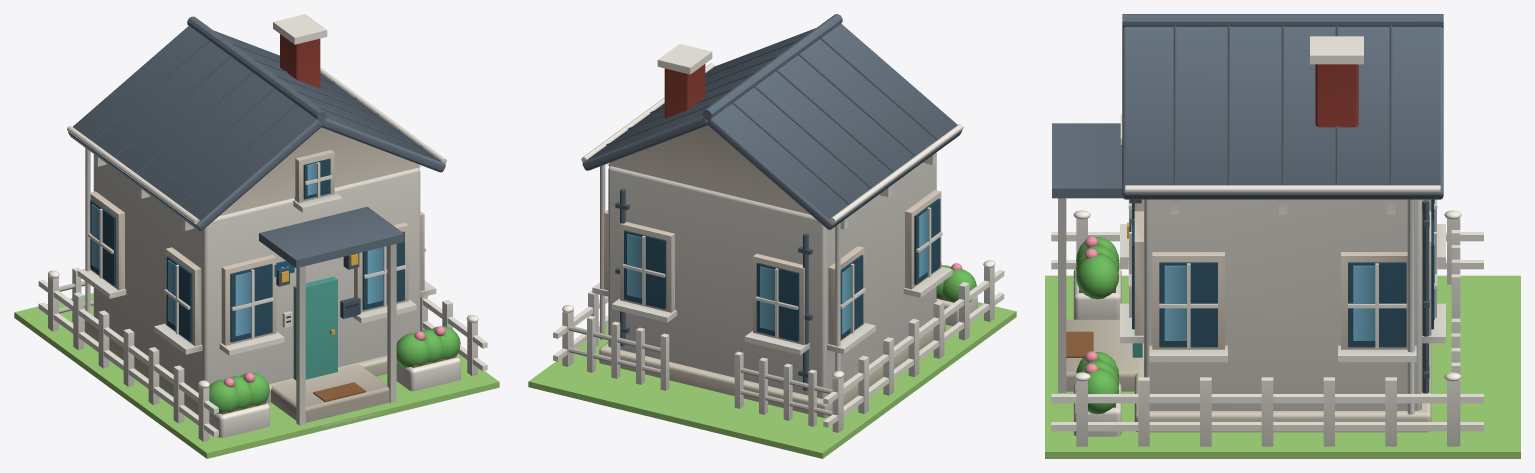
The model's file is house-cream.glb.
3 views of the same model, side by side, from view 1: azimuth 30°, elevation 25°; view 2: azimuth 150°, elevation 25°; view 3: azimuth 270°, elevation 25° (orthographic). The views are drawn at different scales.
Visible parts, largest first — view 1: house walls, pitched roof, gable walls, garden lot, blue glazing, house base, front door, plant, sky reflection, chimney, rainwater pipe, porch mat; view 2: house walls, pitched roof, garden lot, gable walls, blue glazing, house base, sky reflection, chimney, rainwater pipe, plant; view 3: house walls, pitched roof, garden lot, blue glazing, house base, gable walls, plant, sky reflection, chimney, rainwater pipe, porch mat, flower.
Boxes of the visible parts, x1,y1,x2,y2 form: house walls: (38,14,487,441); pitched roof: (68,16,445,268); gable walls: (90,127,424,345); garden lot: (14,293,499,458); blue glazing: (90,158,404,342); house base: (84,315,389,427); front door: (293,276,337,380); plant: (209,326,460,414); sky reflection: (91,163,383,336); chimney: (280,34,320,88); rainwater pipe: (276,253,360,318); porch mat: (313,382,365,401); house walls: (553,44,1004,432); pitched roof: (582,14,962,229); garden lot: (528,302,1016,458); gable walls: (603,125,941,345); blue glazing: (624,198,940,341); house base: (599,319,945,417); sky reflection: (627,210,928,334); chimney: (664,64,705,118); rainwater pipe: (615,188,812,390); plant: (936,265,976,301); house walls: (1051,36,1483,446); pitched roof: (1052,14,1443,199); garden lot: (1045,275,1520,458); blue glazing: (1132,199,1433,347); house base: (1066,319,1431,432); gable walls: (1134,199,1431,349); plant: (1076,237,1119,414); sky reflection: (1131,199,1434,340); chimney: (1315,64,1358,127); rainwater pipe: (1129,199,1429,393); porch mat: (1066,331,1093,357); flower: (1084,236,1098,373).
Size of the model in its own units: 2.7 by 2.6 by 3.08.
